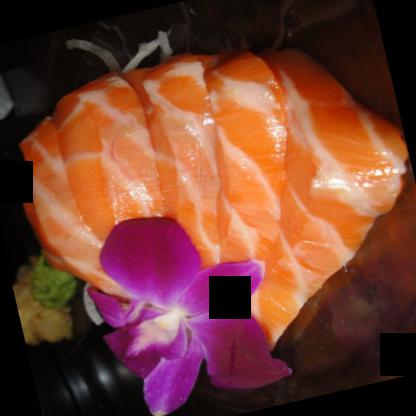salmon: (0, 14, 415, 400)
